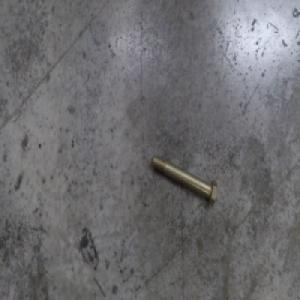Bolt: (150, 150, 218, 207)
